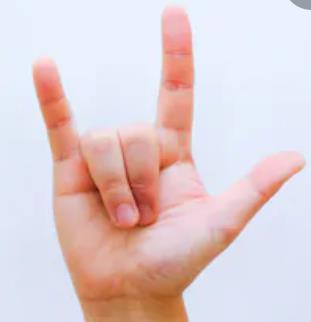back: (18, 1, 307, 286)
